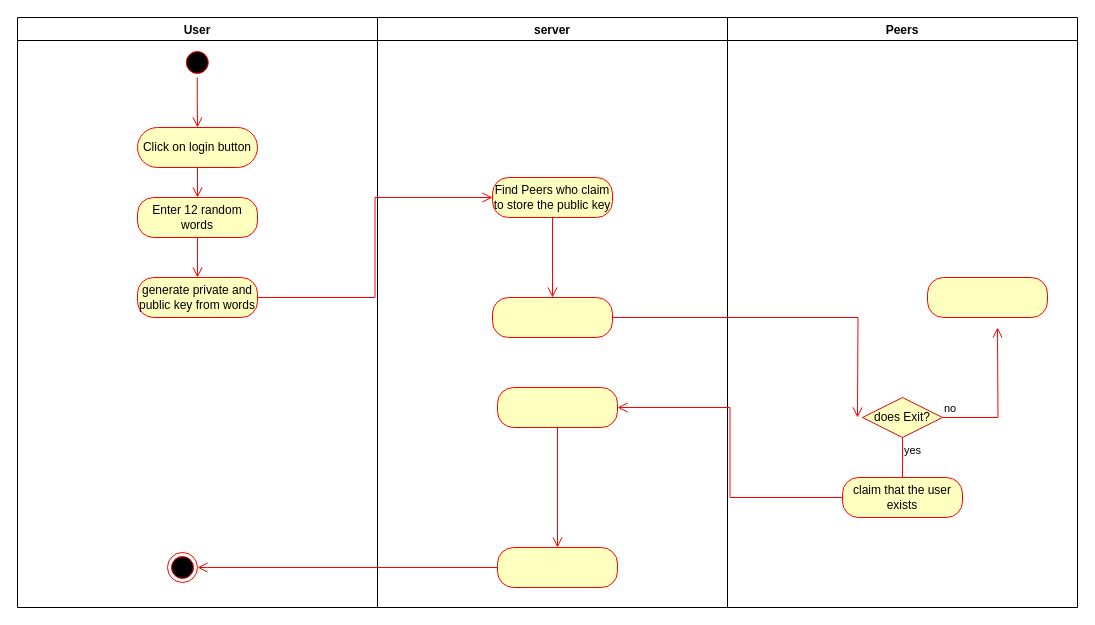
The diagram is 1095 pixels wide and 625 high, and some of its shapes have lost their labels. Each missing label, with the centre of its shape:
"Add User as a New Peer in DataBase" goes at [557,567].
"Broadcast the key to all peers" goes at [552,317].
"Ignore the Message" goes at [987,297].
"validate the cliam" goes at [557,407].
